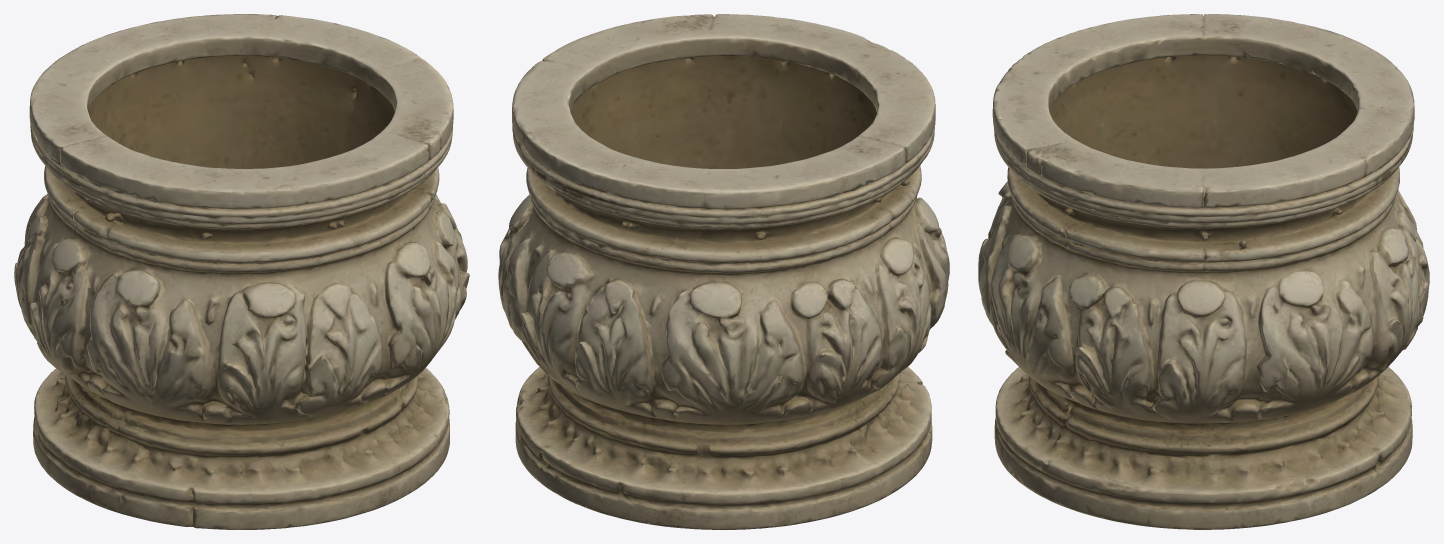
Rendered from small-stone-planter-lotus-motif-optimized (1).glb.
3 renders of one model, left to right at view 1: azimuth 30°, elevation 25°; view 2: azimuth 150°, elevation 25°; view 3: azimuth 270°, elevation 25°, orthographic.
Visible parts, largest first — view 1: world; view 2: world; view 3: world.
Part boxes in pixels (box(x1,y1,x2,y2)): world: box(14, 14, 469, 529); world: box(498, 14, 949, 529); world: box(978, 14, 1429, 529).
Size of the model in its own units: 0.5 by 0.4146 by 0.4981.
Materials: 1 (1 with a texture image).
